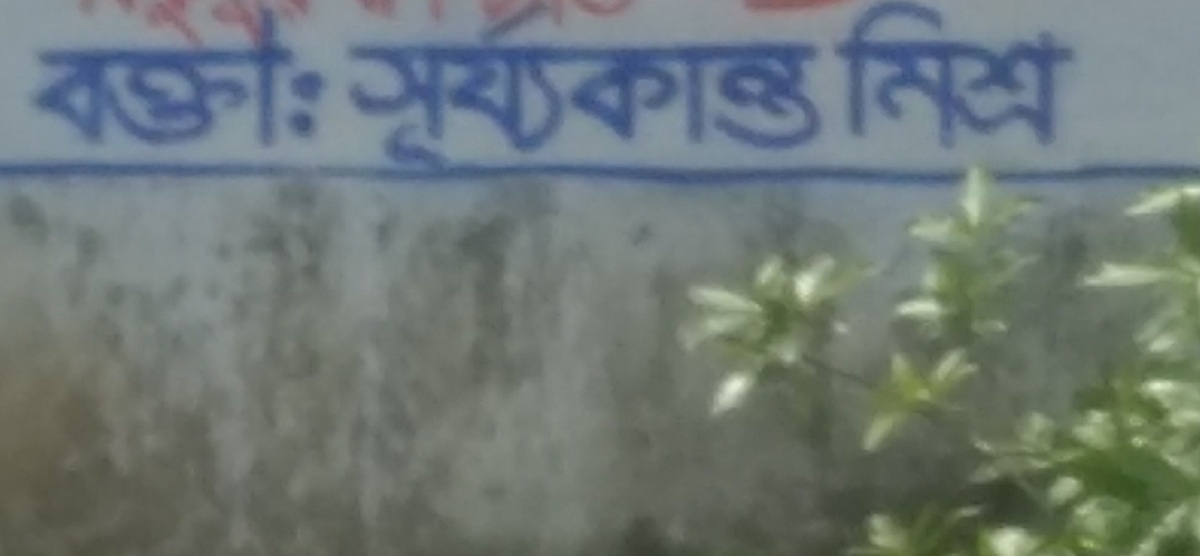text: (353, 1, 368, 182), (369, 1, 384, 182), (385, 1, 400, 182), (401, 1, 416, 182), (417, 1, 432, 182), (433, 1, 448, 182), (449, 1, 464, 182), (465, 1, 480, 182), (481, 1, 496, 182), (497, 1, 512, 182), (513, 1, 528, 182), (529, 1, 544, 182), (545, 1, 560, 182), (561, 1, 576, 182), (577, 1, 592, 182), (593, 1, 608, 182), (609, 1, 624, 182), (625, 1, 640, 182), (641, 1, 656, 182), (657, 1, 672, 182), (673, 1, 688, 182), (689, 1, 704, 182), (705, 1, 720, 182), (721, 1, 736, 182), (737, 1, 752, 182), (753, 1, 768, 182), (769, 1, 784, 182), (785, 1, 800, 182), (801, 1, 816, 182), (817, 1, 832, 182), (833, 1, 848, 159), (849, 1, 864, 159), (865, 1, 880, 159), (881, 1, 896, 159), (897, 1, 912, 159), (913, 1, 928, 159), (929, 1, 944, 159), (945, 1, 960, 159), (961, 1, 976, 159), (977, 1, 992, 159), (993, 1, 1008, 159), (1009, 1, 1024, 159), (1025, 1, 1040, 159), (1041, 1, 1056, 159), (1057, 1, 1072, 159), (1073, 1, 1087, 159), (33, 10, 48, 153), (49, 10, 64, 153), (65, 10, 80, 153), (81, 10, 96, 153), (97, 10, 112, 153), (113, 10, 128, 153), (129, 10, 144, 153), (145, 10, 160, 153), (161, 10, 176, 153), (177, 10, 192, 153), (193, 10, 208, 153), (209, 10, 224, 153), (225, 10, 240, 153), (241, 10, 256, 153), (257, 10, 272, 153), (273, 10, 288, 153), (289, 10, 304, 153), (305, 10, 320, 153), (321, 10, 336, 153), (343, 1, 352, 182), (481, 1, 496, 45), (497, 1, 512, 45), (513, 1, 528, 45), (529, 1, 544, 45), (545, 1, 560, 45), (561, 1, 576, 45), (577, 1, 592, 45), (593, 1, 608, 45), (609, 1, 624, 45), (625, 1, 640, 45), (81, 1, 96, 42), (97, 1, 112, 42), (113, 1, 128, 42), (129, 1, 144, 42), (145, 1, 160, 42), (161, 1, 176, 42), (177, 1, 192, 42), (193, 1, 208, 42), (209, 1, 224, 42), (225, 1, 240, 42), (241, 1, 256, 42), (257, 1, 272, 42), (273, 1, 288, 42), (289, 1, 304, 42), (305, 1, 320, 42), (369, 1, 384, 34), (385, 1, 400, 34), (641, 1, 652, 45), (829, 1, 832, 159), (337, 10, 340, 153), (401, 1, 414, 34), (358, 1, 368, 34), (475, 1, 480, 45), (75, 1, 80, 42), (833, 1, 834, 182), (321, 1, 325, 42), (31, 10, 32, 153)
